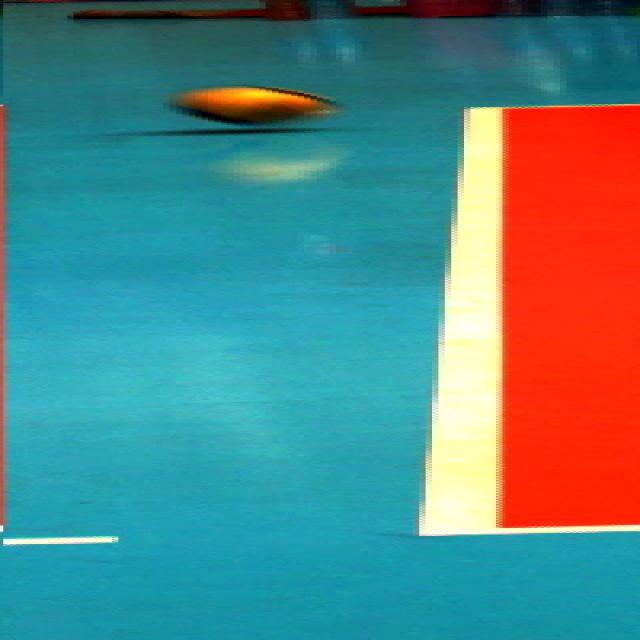Volleyball: (184, 82, 336, 125)
